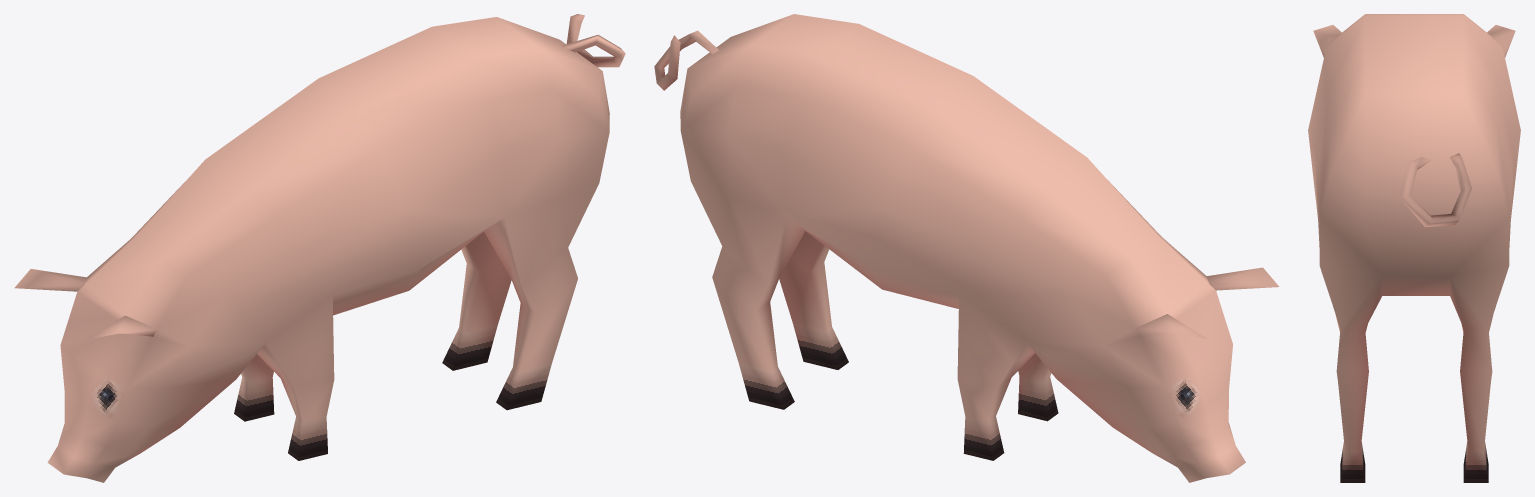
Rendered from pig.gltf.
3 views of the same model, side by side, from view 1: azimuth 30°, elevation 25°; view 2: azimuth 150°, elevation 25°; view 3: azimuth 270°, elevation 25° (orthographic). The views are drawn at different scales.
Visible parts, largest first — view 1: pig_head1.m; view 2: pig_head1.m; view 3: pig_head1.m.
Boxes of the visible parts, x1,y1,x2,y2 form: pig_head1.m: (14, 14, 625, 482); pig_head1.m: (654, 14, 1279, 482); pig_head1.m: (1308, 14, 1520, 482).
Size of the model in its own units: 5.22 by 3.02 by 1.46.
Materials: 1 (1 with a texture image).
